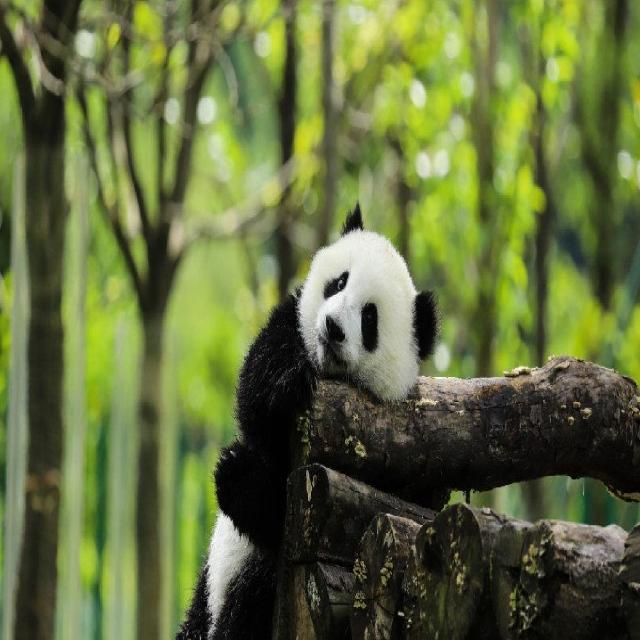panda: (172, 203, 442, 640)
